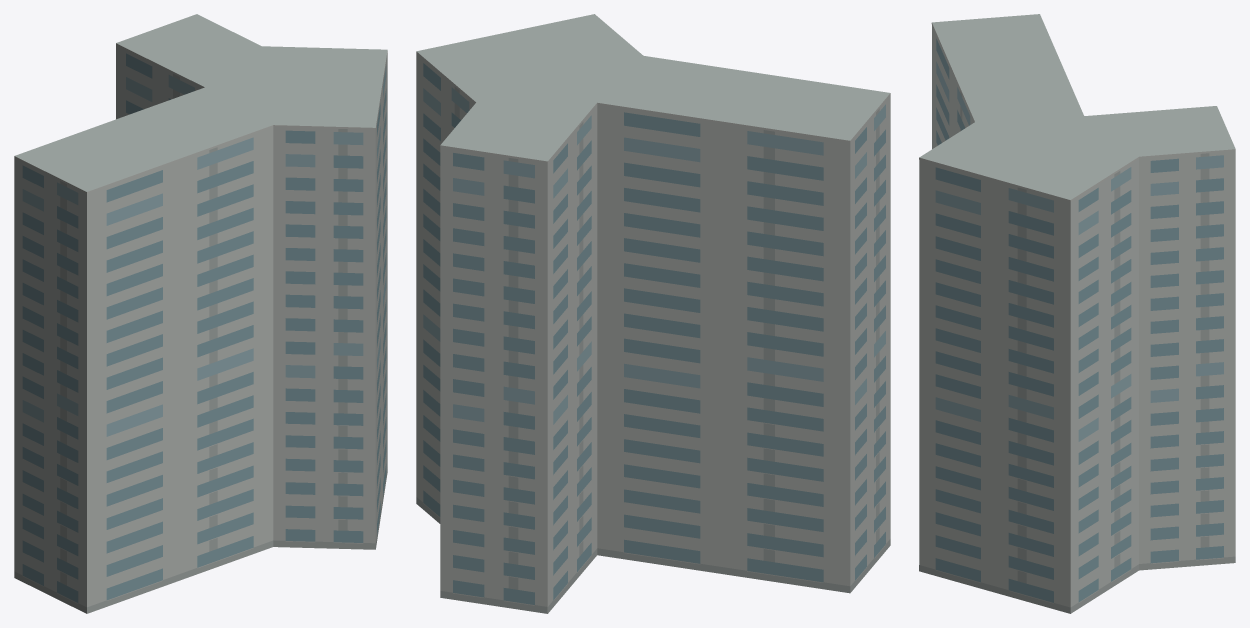
Rendered from residential-7cb4e361-5c6c-4249-b86c-6525cc5c9cfb.glb.
3 views of the same model, side by side, from view 1: azimuth 30°, elevation 25°; view 2: azimuth 150°, elevation 25°; view 3: azimuth 270°, elevation 25° (orthographic). The views are drawn at different scales.
Visible parts, largest first — view 1: residential-7cb4e361-5c6c-4249-b86c-6525cc5c9cfb.tmp; view 2: residential-7cb4e361-5c6c-4249-b86c-6525cc5c9cfb.tmp; view 3: residential-7cb4e361-5c6c-4249-b86c-6525cc5c9cfb.tmp.
Part boxes in pixels (x1,y1,x2,y2): residential-7cb4e361-5c6c-4249-b86c-6525cc5c9cfb.tmp: (14, 14, 387, 613); residential-7cb4e361-5c6c-4249-b86c-6525cc5c9cfb.tmp: (416, 14, 890, 613); residential-7cb4e361-5c6c-4249-b86c-6525cc5c9cfb.tmp: (919, 14, 1235, 613).
Bounding box in the file's own units: 49.22 × 51 × 35.38.
